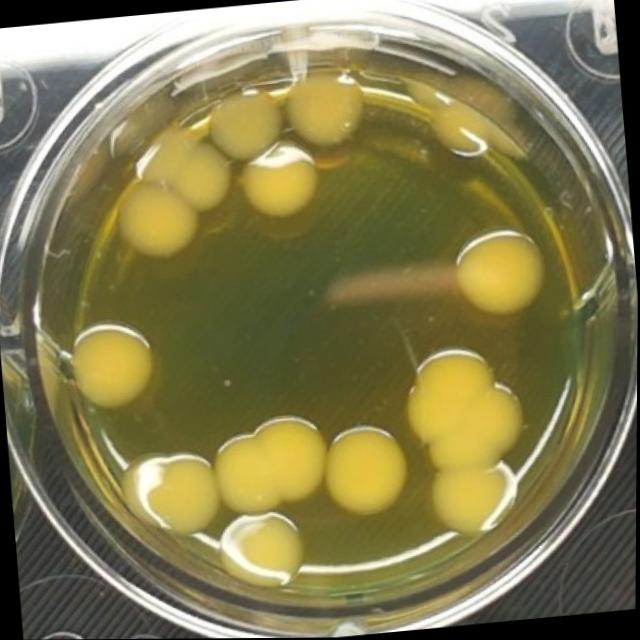vibrio: (397, 342, 532, 550), (105, 127, 241, 265), (208, 407, 331, 520), (114, 441, 221, 545), (316, 416, 417, 524), (446, 222, 551, 323), (65, 319, 161, 417), (209, 505, 311, 597), (278, 64, 374, 152), (193, 79, 285, 167), (237, 140, 324, 225), (420, 96, 492, 169)
